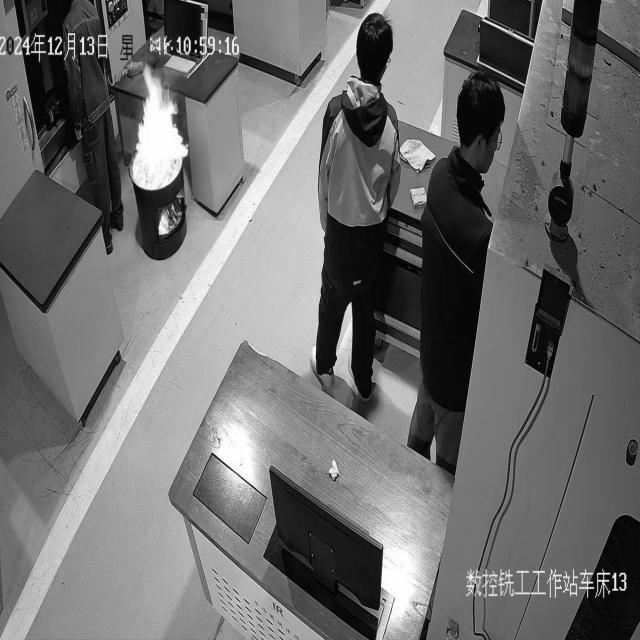smoke: (130, 65, 187, 195)
